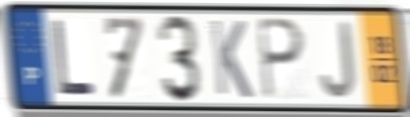3: (155, 12, 203, 105)
7: (101, 14, 145, 101)
J: (318, 18, 358, 101)
K: (207, 16, 255, 101)
L: (49, 17, 98, 98)
P: (254, 15, 307, 103)
